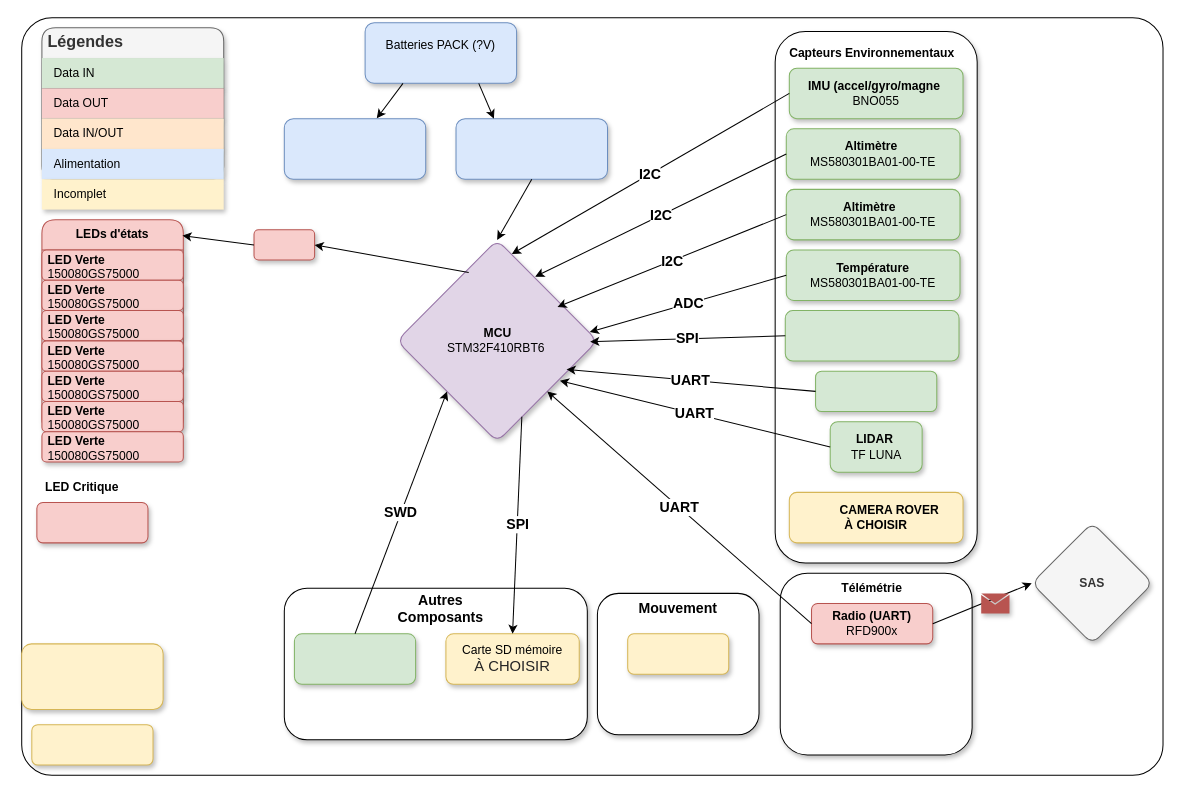
Image size: 1181x793. Some labels were removed from this diagram. The shapes that lost their labels are listed below. From the top down, each one's centre as x and y in pixels, then its label:
point 355,150: BUCK CONVERTER 5V
point 532,150: BUCK CONVERTER 3V3
point 285,246: DEMUX
point 872,337: Accelerometre HIGH G ADXL382-2BCCZ-RL7
point 877,392: GPS L76LM33
point 93,523: LED Rouge 150080RS75000
point 355,660: ST-LINKV2 xxxxxx
point 679,655: MOTEUR à choisir
point 93,678: Transitor(possible pour activer moteur et camera
point 93,746: Flash NAND MX30UF4G28AD
